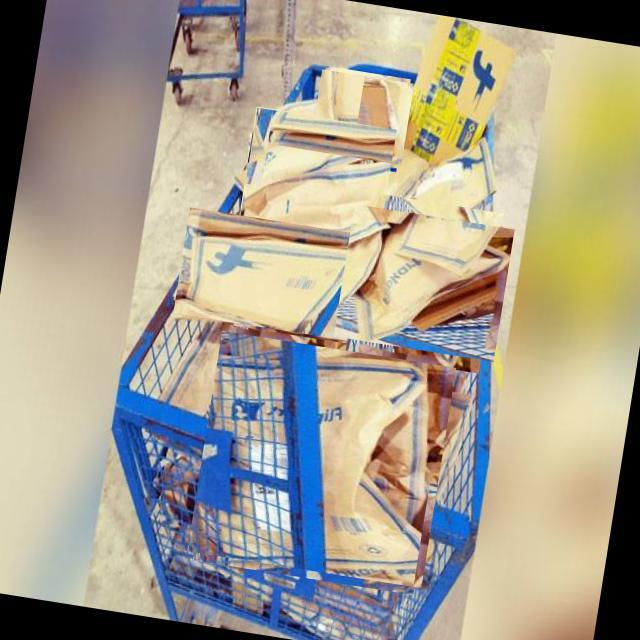cardboxes: (190, 328, 453, 592), (340, 198, 510, 368), (234, 107, 397, 270), (173, 208, 364, 340)
